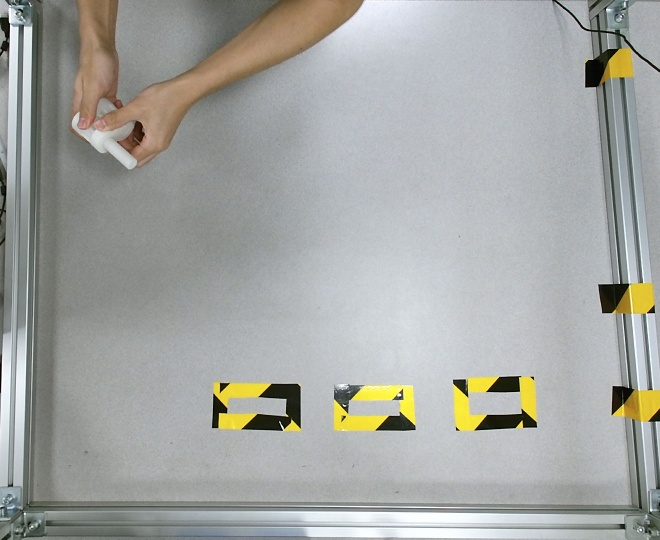stage_4: (71, 97, 137, 170)
